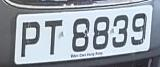3: (111, 11, 132, 50)
8: (90, 13, 112, 54), (70, 15, 91, 56)
9: (130, 9, 150, 48)
P: (18, 16, 43, 63)
T: (42, 18, 66, 58)
